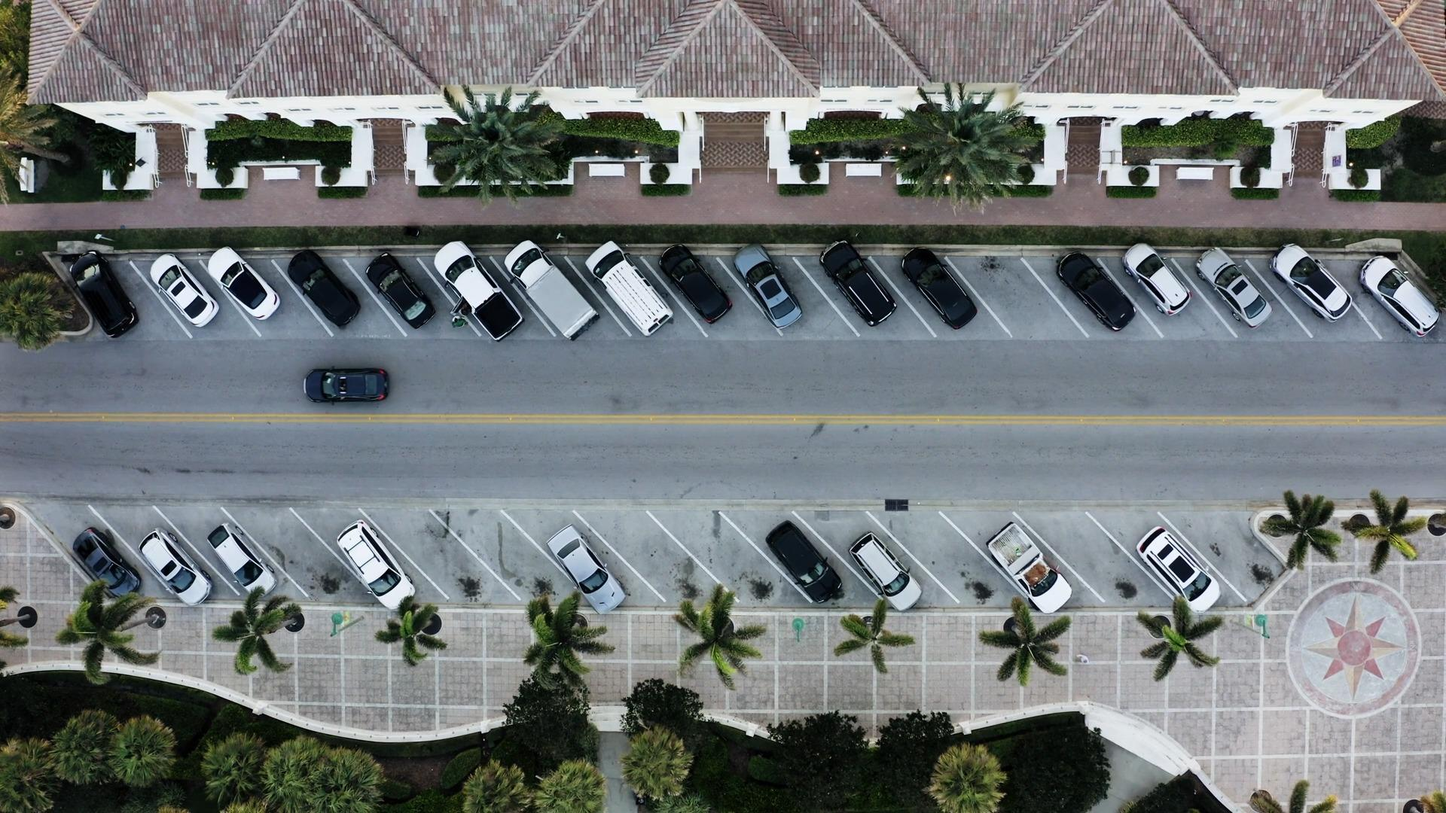free: (475, 520, 545, 619), (621, 520, 691, 618), (917, 518, 987, 616), (260, 513, 330, 611), (1214, 506, 1283, 605), (699, 518, 768, 616), (1078, 523, 1147, 621), (988, 248, 1061, 330), (415, 557, 502, 593)
occupied: (436, 241, 531, 343), (1133, 524, 1219, 612), (983, 520, 1064, 612), (336, 521, 418, 610), (548, 524, 627, 612), (1358, 255, 1442, 337), (822, 239, 898, 326), (723, 243, 798, 330), (524, 246, 599, 333), (592, 245, 667, 332), (659, 249, 734, 336), (1270, 244, 1351, 322), (1195, 247, 1272, 328), (768, 521, 843, 604), (68, 251, 140, 337), (1056, 253, 1133, 332), (901, 247, 974, 329), (365, 251, 438, 330), (138, 530, 213, 605), (290, 251, 363, 328), (206, 522, 279, 598), (848, 532, 919, 610), (209, 247, 281, 322), (150, 254, 220, 329), (1122, 242, 1190, 316), (71, 527, 141, 597)
